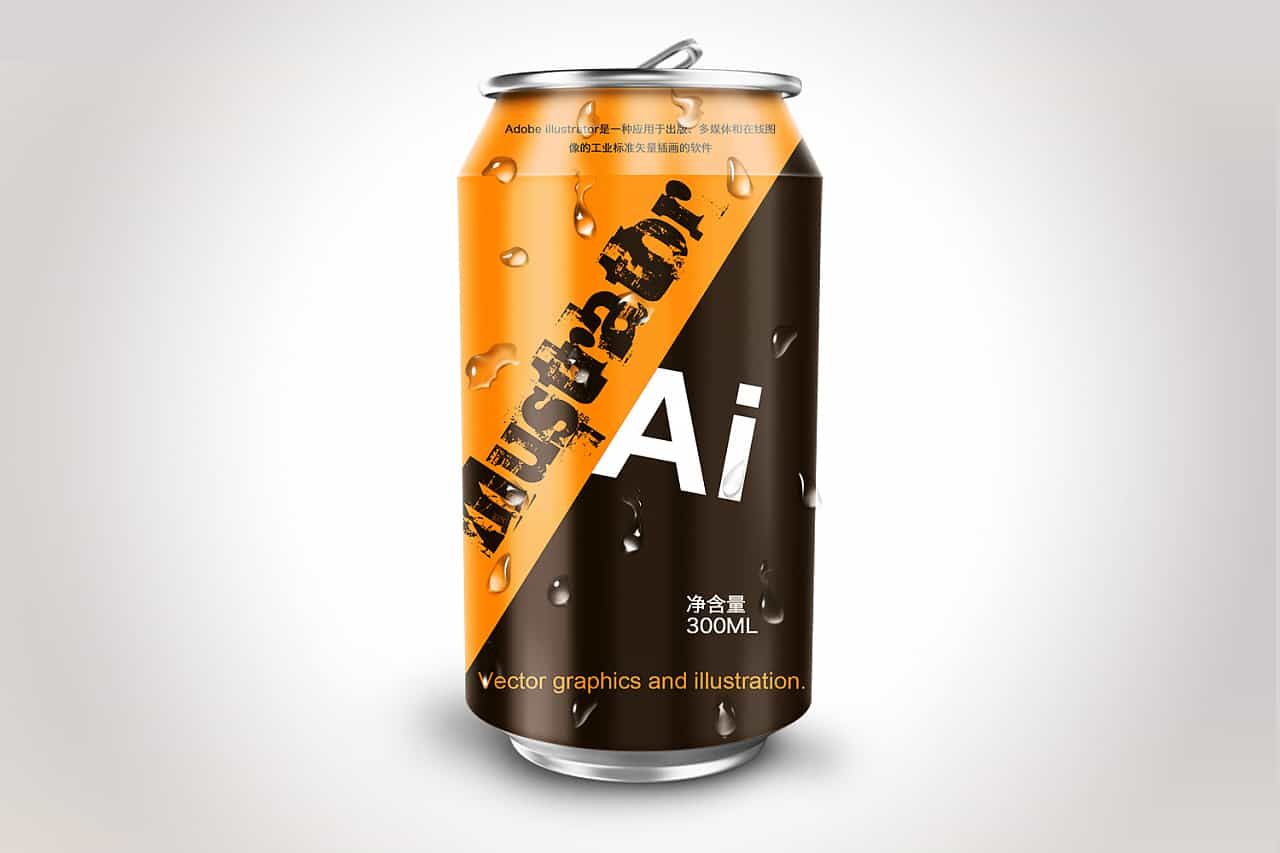cans: (440, 31, 838, 794)
